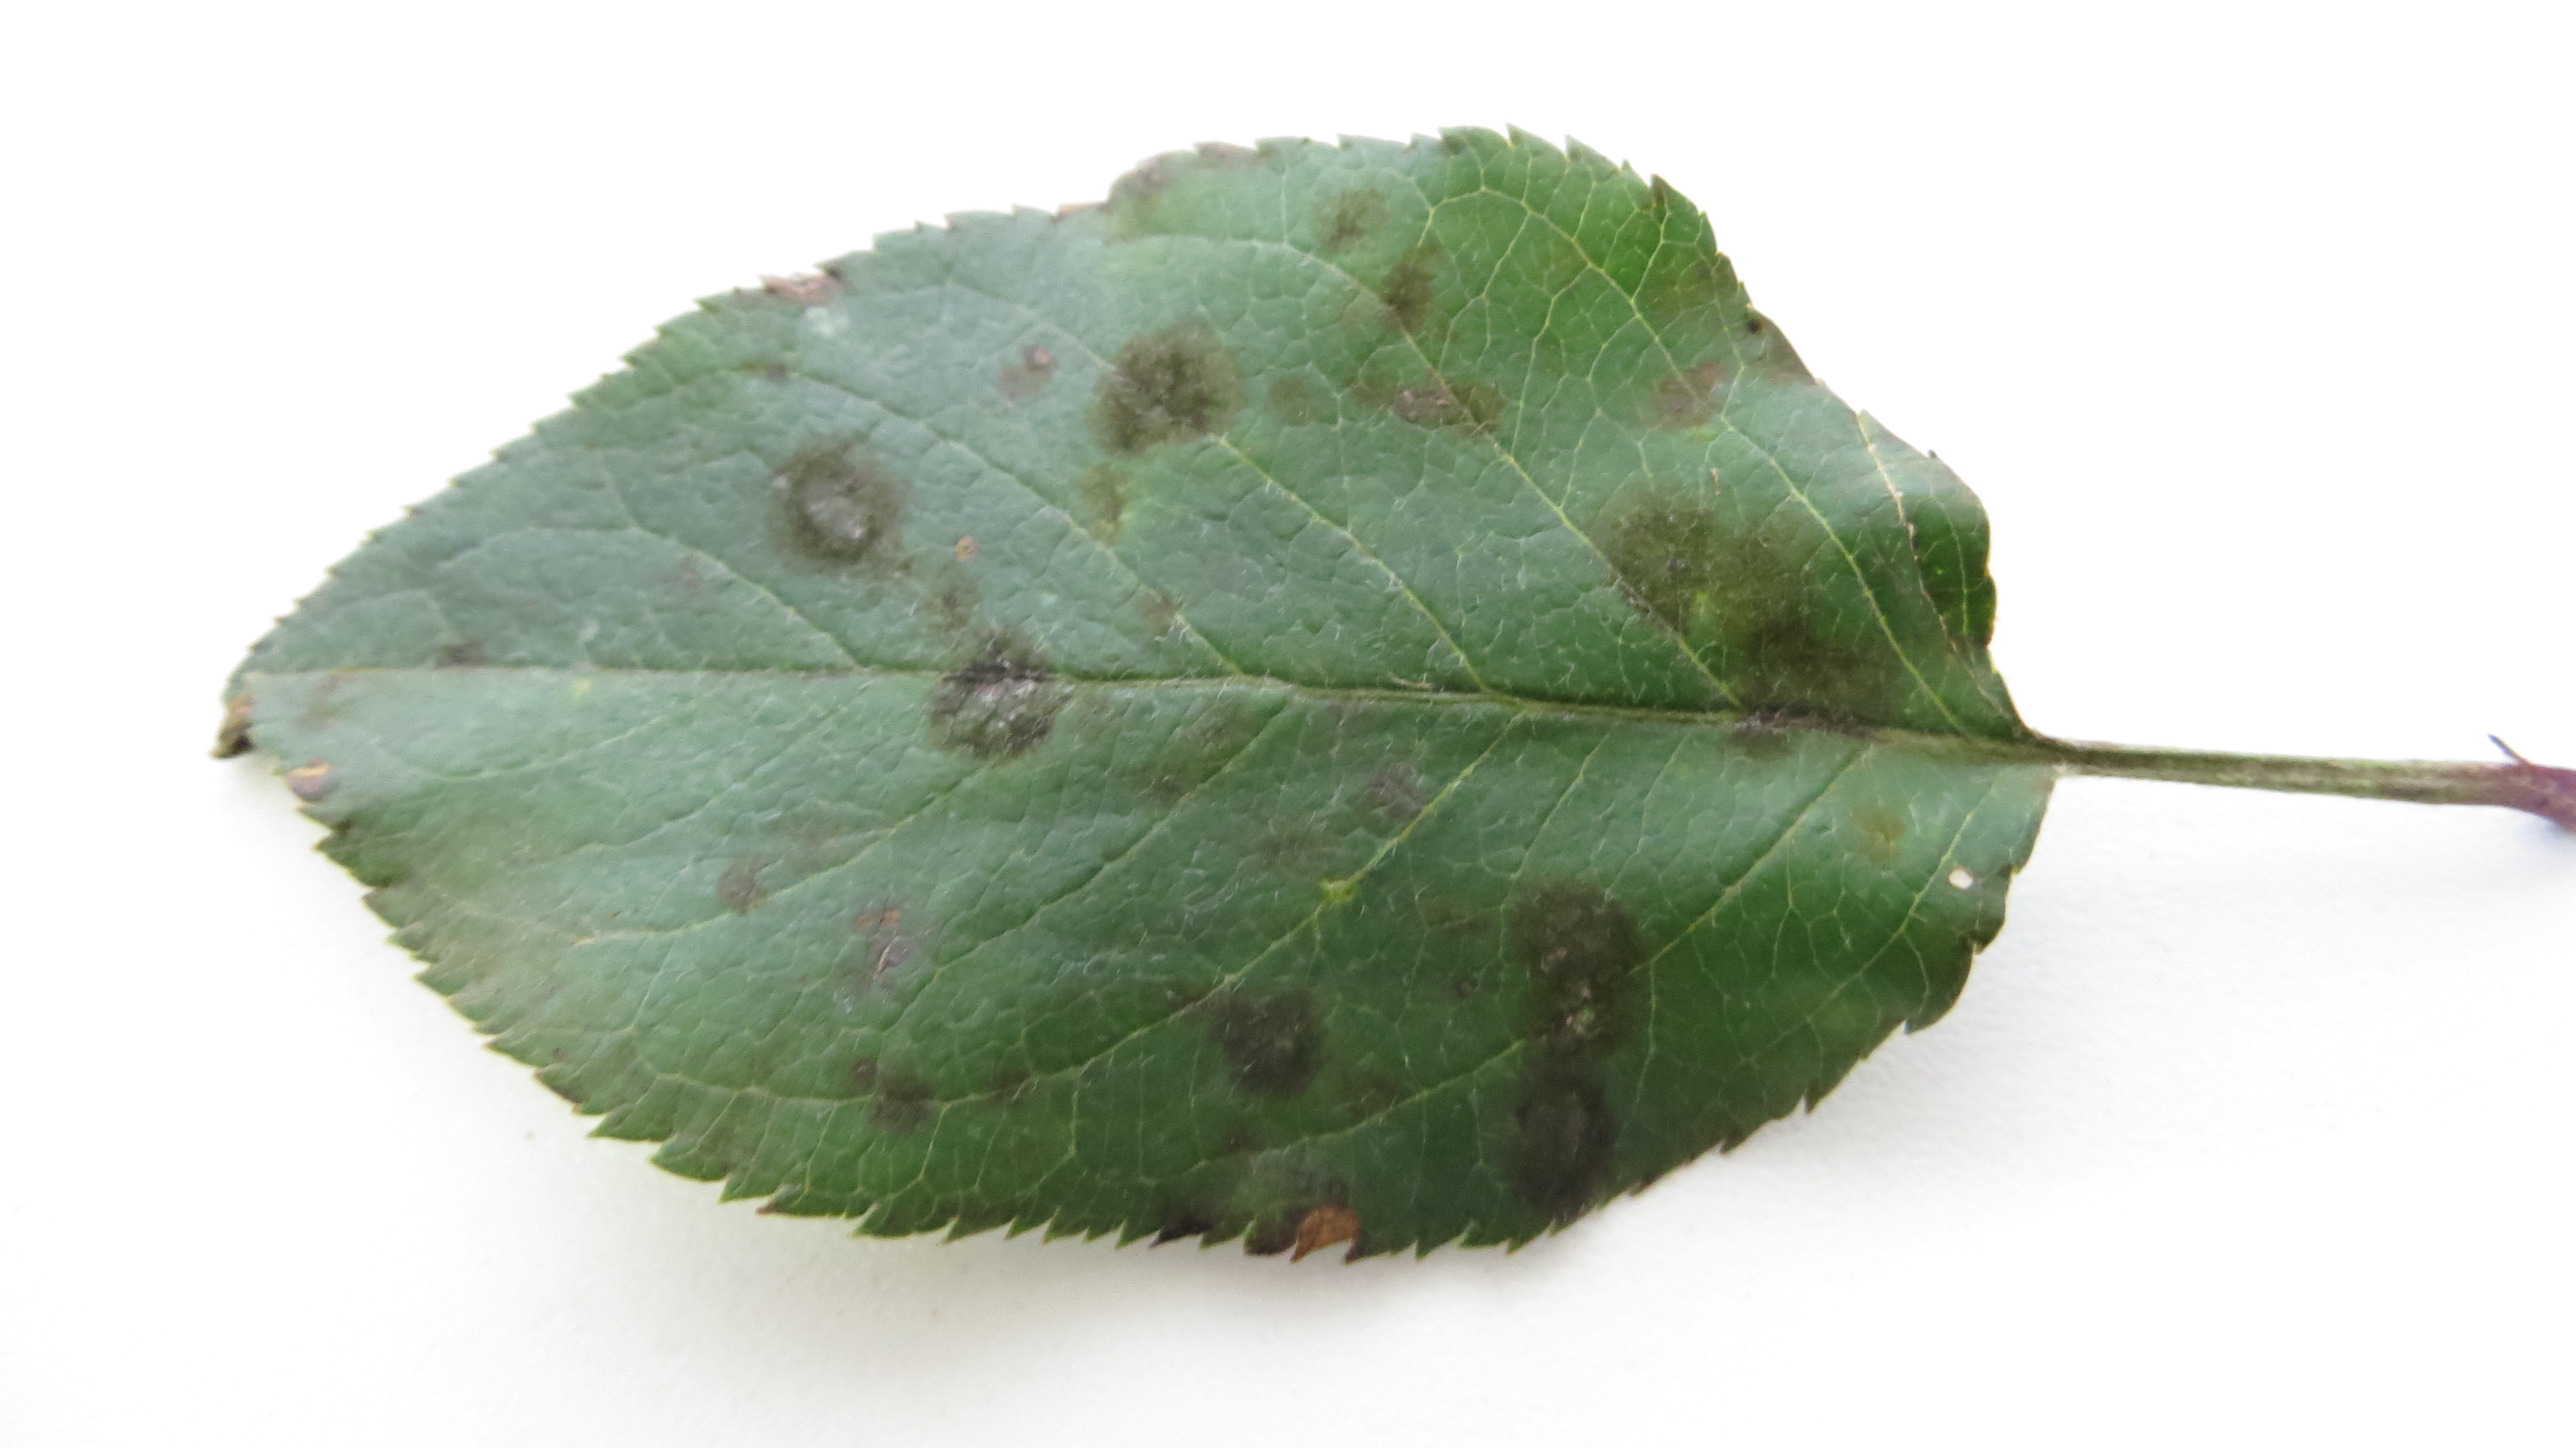sarna: (1601, 497, 1927, 772), (1490, 866, 1644, 1237), (911, 597, 1072, 789), (1166, 961, 1346, 1112), (1097, 313, 1249, 476), (775, 427, 908, 589), (839, 896, 955, 1018), (1619, 326, 1729, 455), (1373, 356, 1509, 451), (1812, 770, 1920, 880), (1246, 798, 1361, 901), (842, 1043, 952, 1147), (1316, 184, 1421, 294), (1355, 747, 1461, 850), (1049, 444, 1152, 551), (701, 825, 787, 935), (754, 250, 860, 336), (1373, 251, 1440, 359), (1187, 689, 1269, 770), (987, 331, 1076, 405), (1141, 586, 1210, 648)
